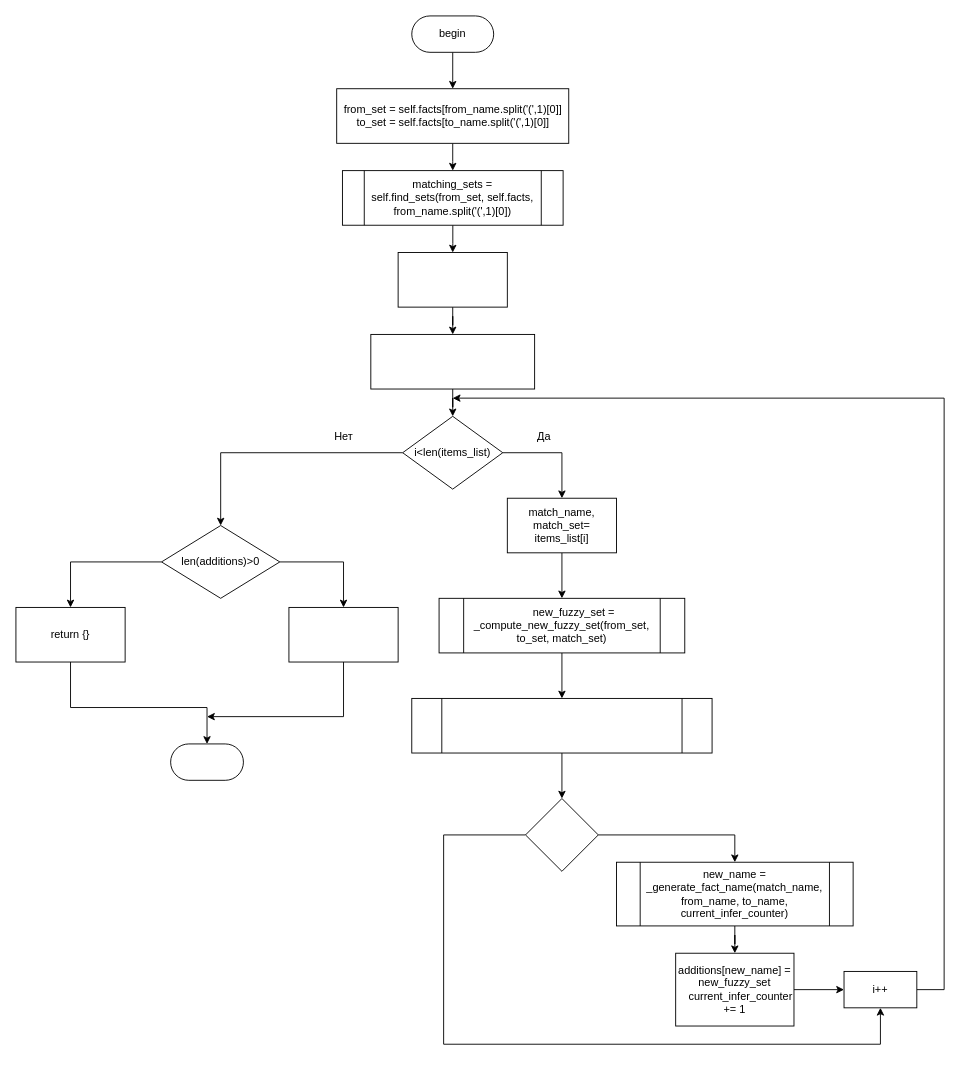
Image size: 967x1067. Some labels were removed from this diagram. The shapes that lost their labels are listed below. From the top down, each one's centre as x and y in pixels, then its label:
At point 452,279: "additions = {} current_infer_counter = infer_counter".
At point 452,361: "items_list = list(matching_sets.items()) i=0".
At point 343,634: "return {'facts': additions, 'infer_counter': current_infer_counter}".
At point 561,725: "check=_should_add_new_fact(new_fuzzy_set, to_set, facts, additions)".
At point 206,761: "end".
At point 561,834: "chek==True".
